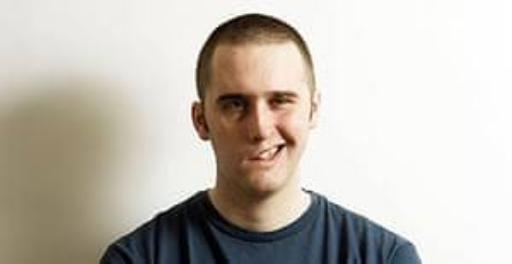left_eye: (270, 91, 300, 109)
left_lip_corner: (281, 141, 292, 152)
right_eye: (217, 100, 248, 112)
right_lip_corner: (244, 156, 258, 167)
